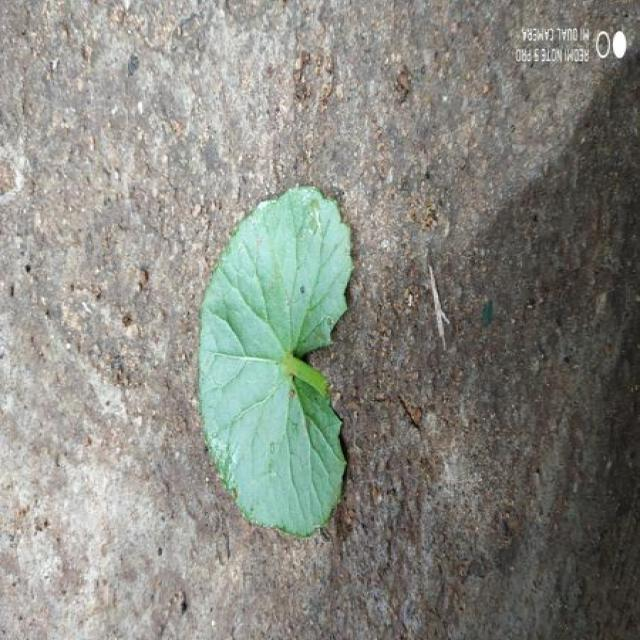bhrami: (198, 186, 352, 536)
